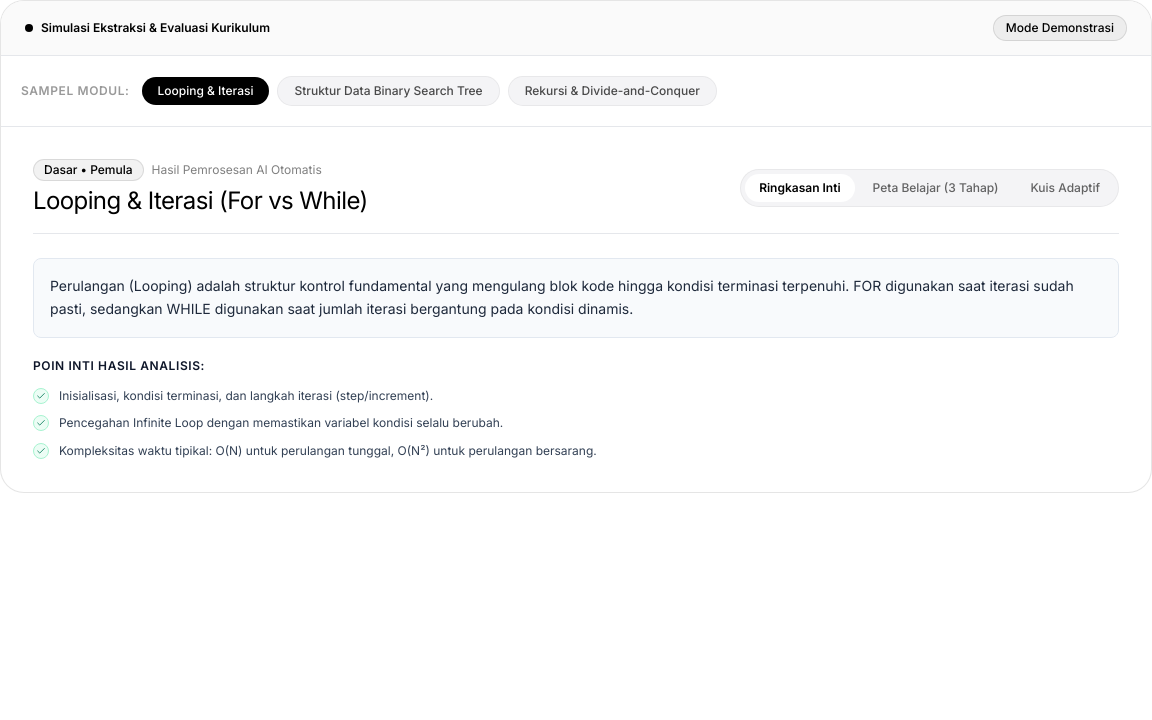
Test case: Landing Page Components & User Interactivity › InteractiveAiDemo Component › should switch between tabs (Summary, Roadmap, and Quiz)
Note: Switch to Roadmap tab
Click the tab "Peta Belajar (3 Tahap)": [936, 188] box [859,174,1012,202]
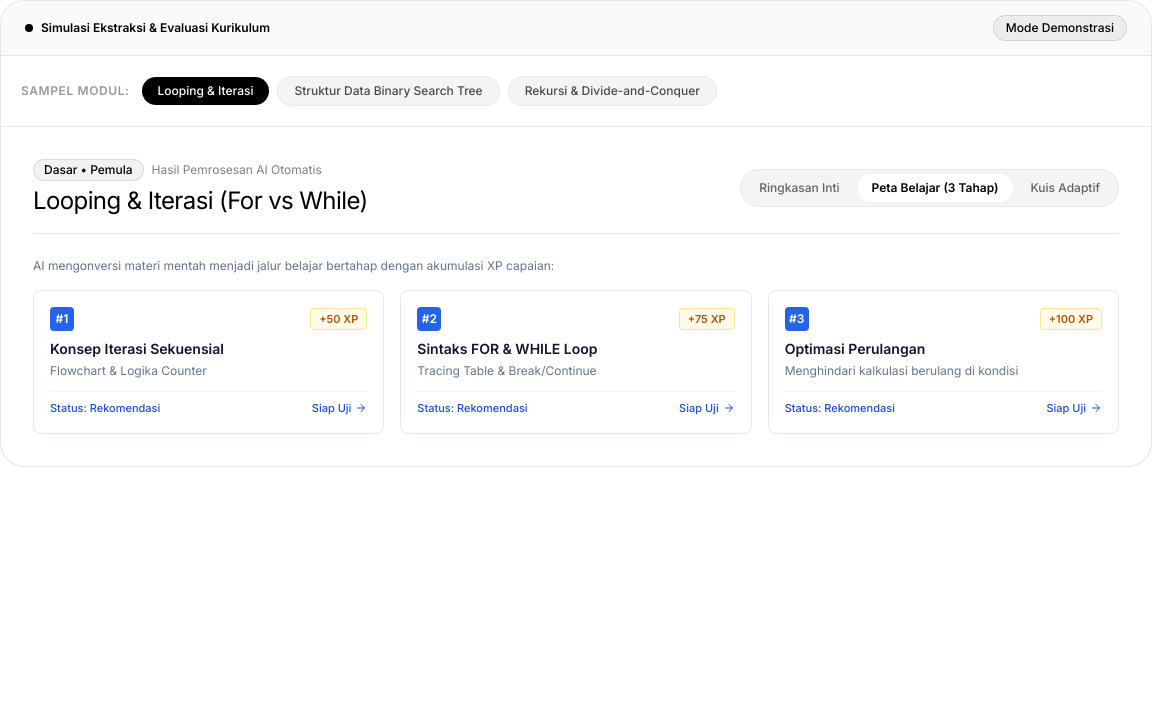
Expected: the text "AI mengonversi materi mentah menjadi jalur belajar bertahap" is shown, [33,258,554,273]
Expected: the heading "Konsep Iterasi Sekuensial" is shown, [50,340,224,357]
Note: Switch to Quiz tab
Click the tab "Kuis Adaptif": [1065, 188] box [1016,174,1114,202]
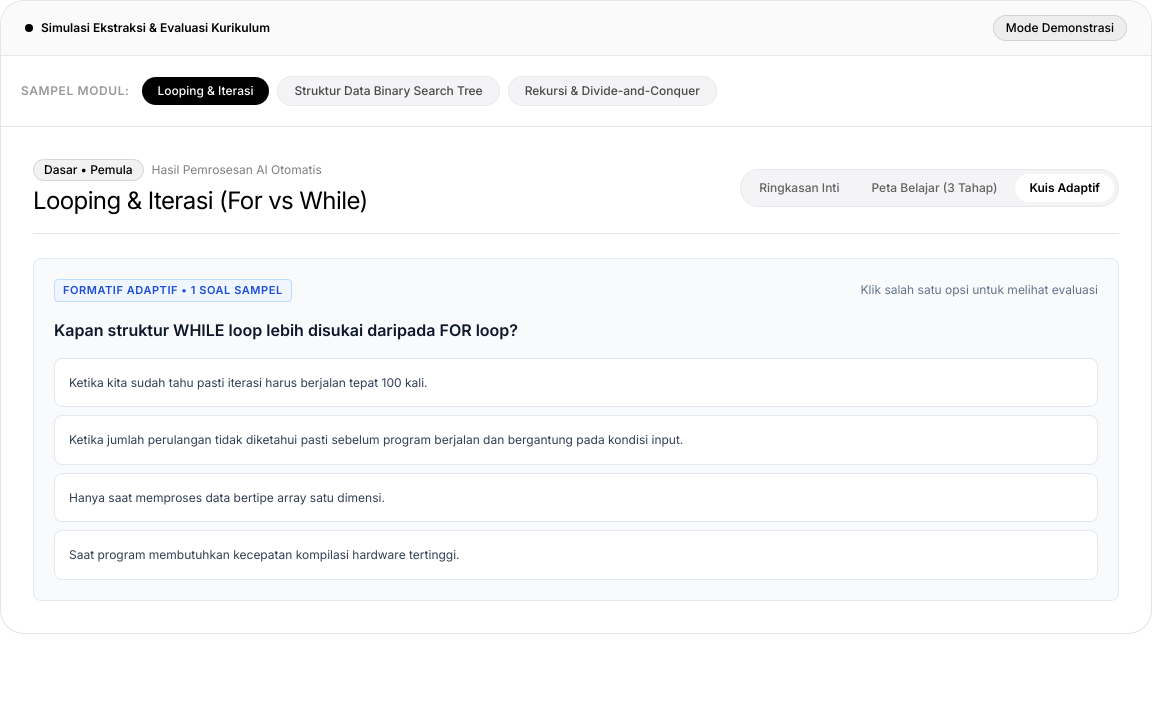
Expected: the text "Formatif Adaptif • 1 Soal Sampel" is shown, [54,279,292,302]
Expected: the heading "Kapan struktur WHILE loop lebih disukai daripada FOR loop?" is shown, [54,320,518,340]
